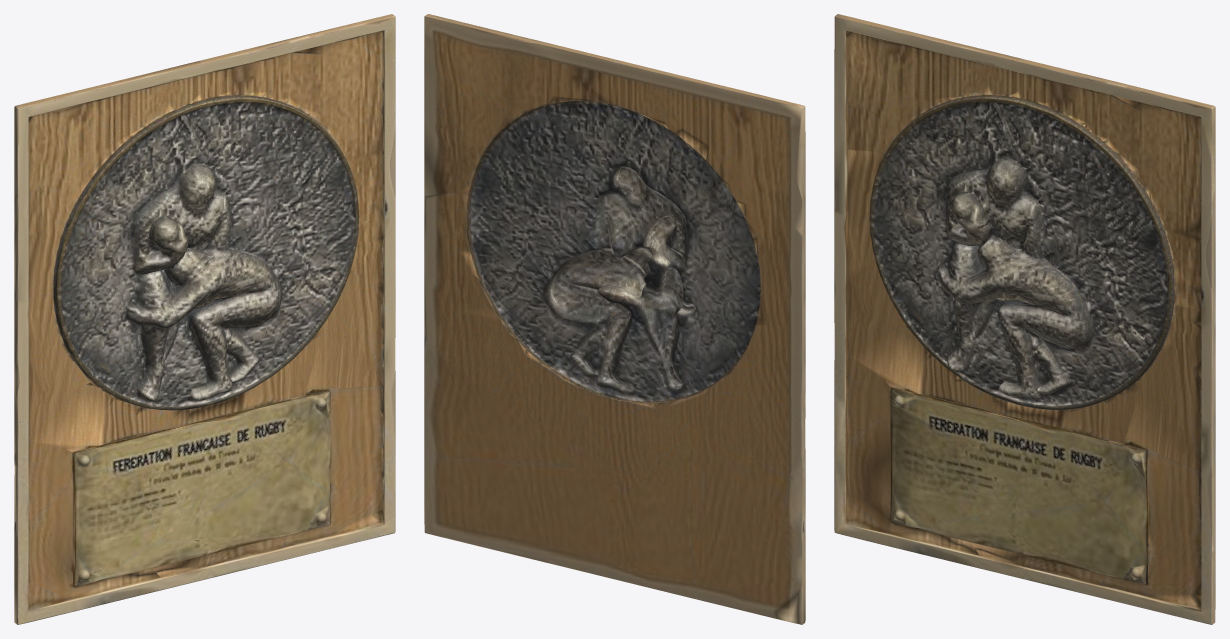
The model's file is f-elite.glb.
3 renders of one model, left to right at view 1: azimuth 30°, elevation 25°; view 2: azimuth 150°, elevation 25°; view 3: azimuth 330°, elevation 25°, orthographic.
Bounding box in the file's own units: 1.46 × 1.9 × 0.1343.
Materials: 1 (1 with a texture image).
